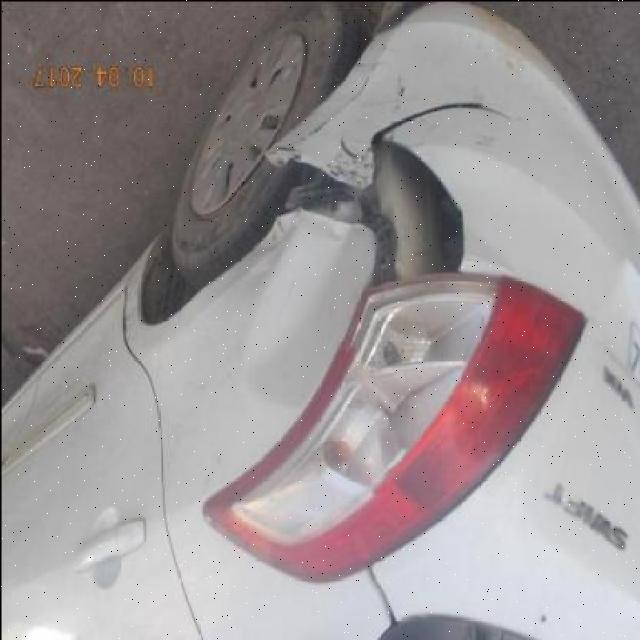damage: (263, 17, 509, 276), (334, 279, 492, 459), (234, 219, 365, 409)
